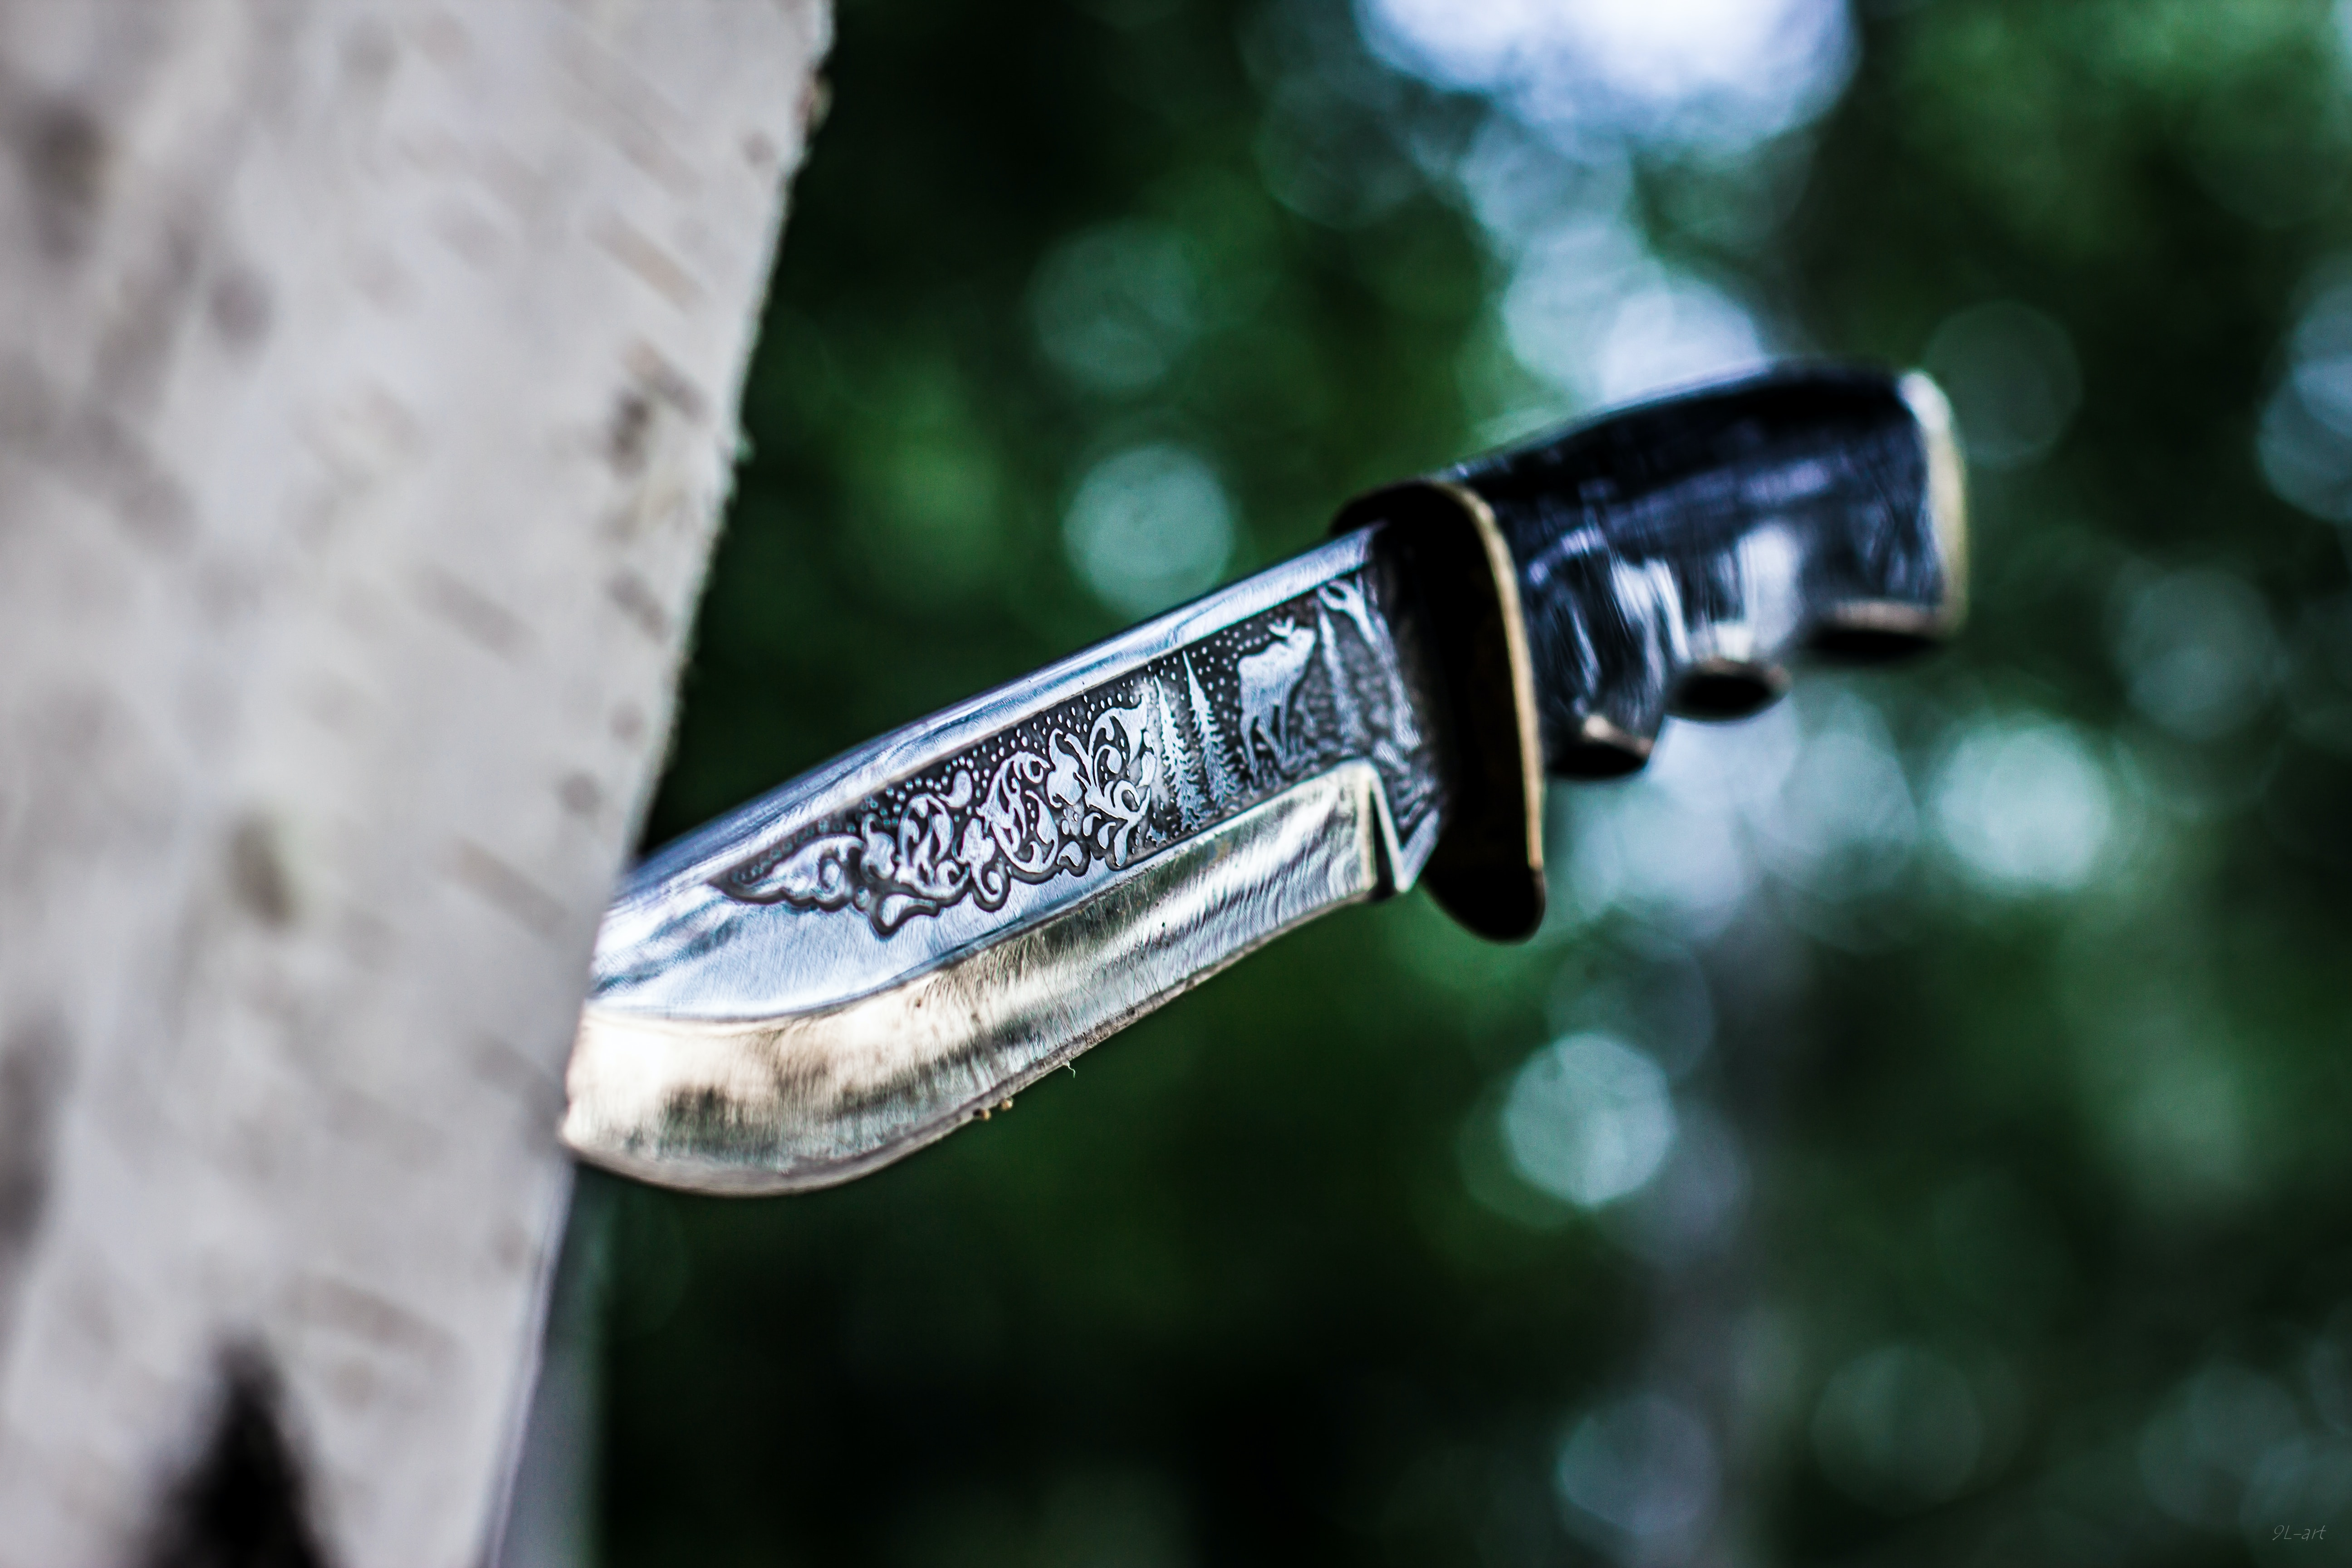knife: (516, 345, 2018, 1221)
